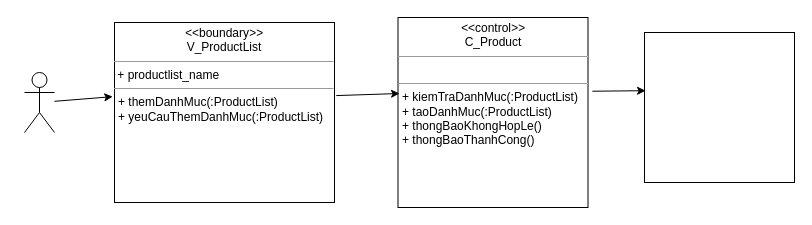
Some shapes in this 812 by 225 pixel diagram are drawn without their labels. Each missing label, with the centre of its shape:
< <entity >> M_Product + productlist_id: int + productlist_name: string: point 719,107
Provider: point 39,102
